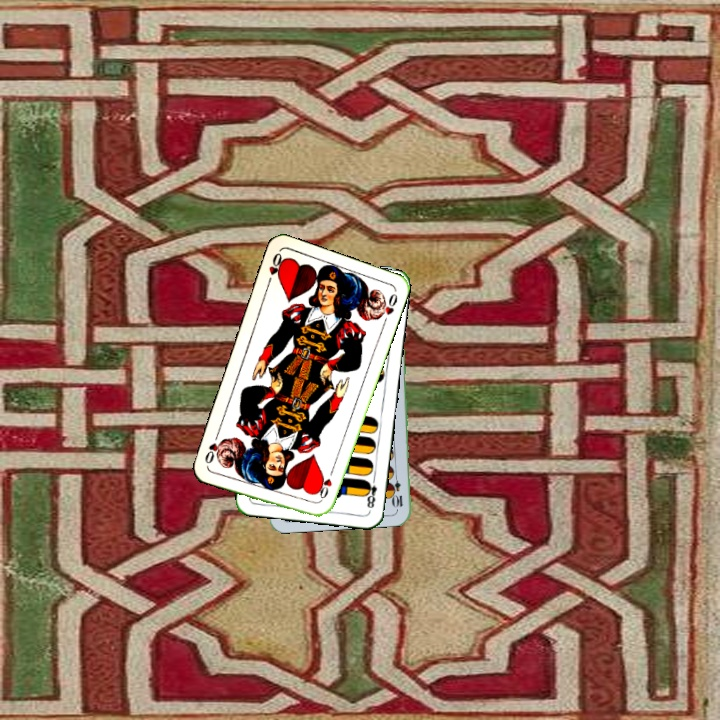E10: (389, 469, 405, 510)
E8: (361, 472, 379, 510)
HO: (263, 249, 288, 288), (313, 466, 336, 505)
